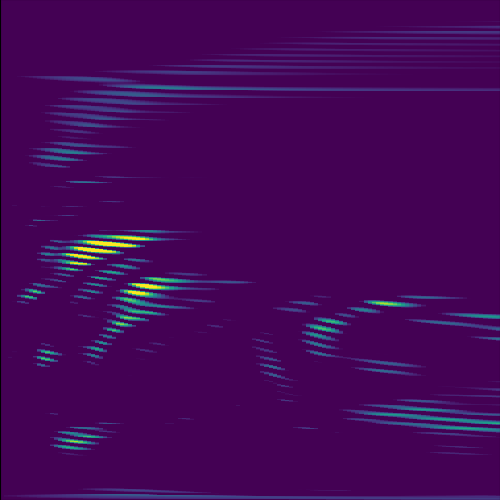semblance: (57, 234, 160, 269), (118, 276, 189, 299)
